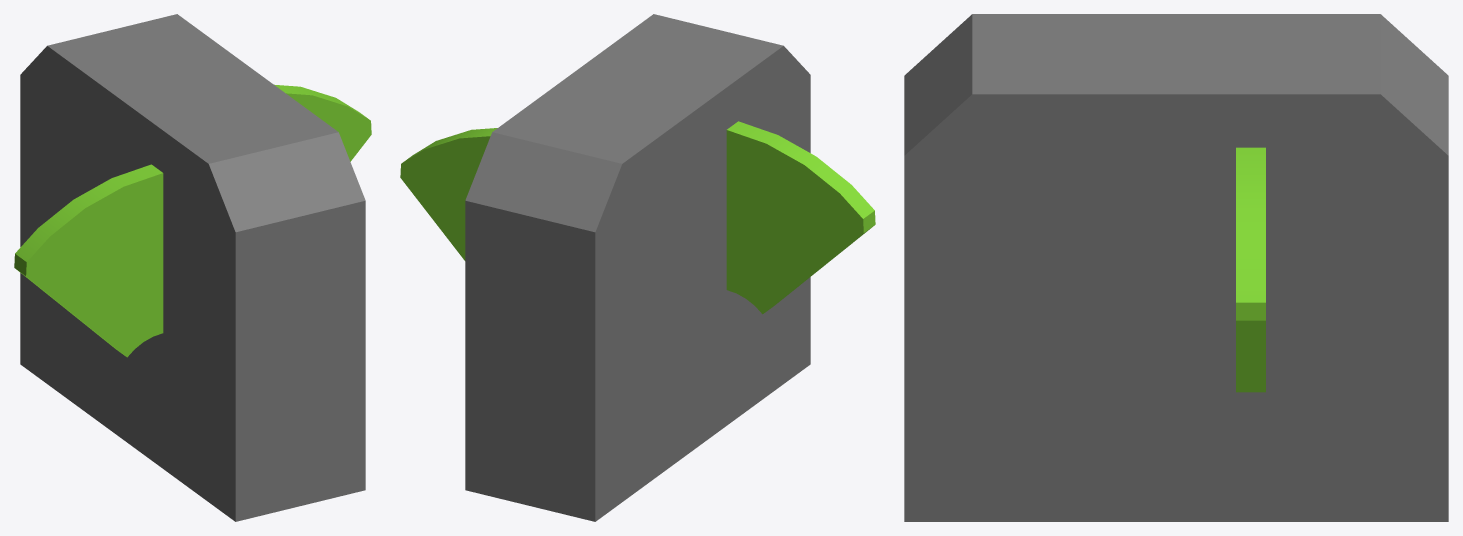
The model's file is TrainStationBarricade_01_Mesh_01.fbx.
The picture shows the model from 3 angles, left to right: view 1: azimuth 30°, elevation 25°; view 2: azimuth 150°, elevation 25°; view 3: azimuth 270°, elevation 25°; orthographic projection. The views are drawn at different scales.
Visible parts, largest first — view 1: Barricade; view 2: Barricade; view 3: Barricade.
Boxes of the visible parts, x1,y1,x2,y2 form: Barricade: (14, 14, 371, 521); Barricade: (400, 14, 875, 521); Barricade: (904, 14, 1448, 521).
Size of the model in its own units: 198 by 158 by 183.
